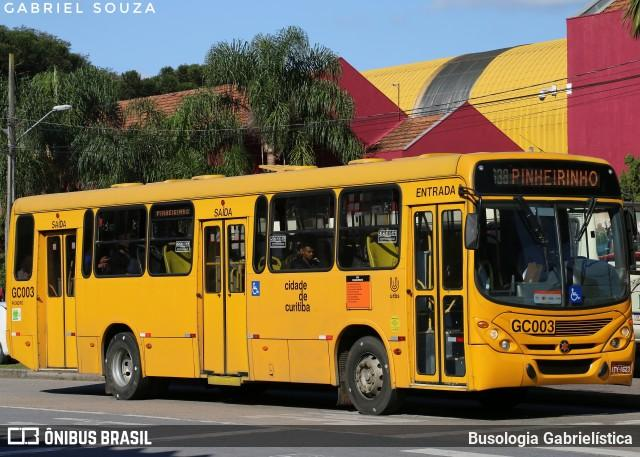PINHEIRINHO: (507, 164, 601, 191)
